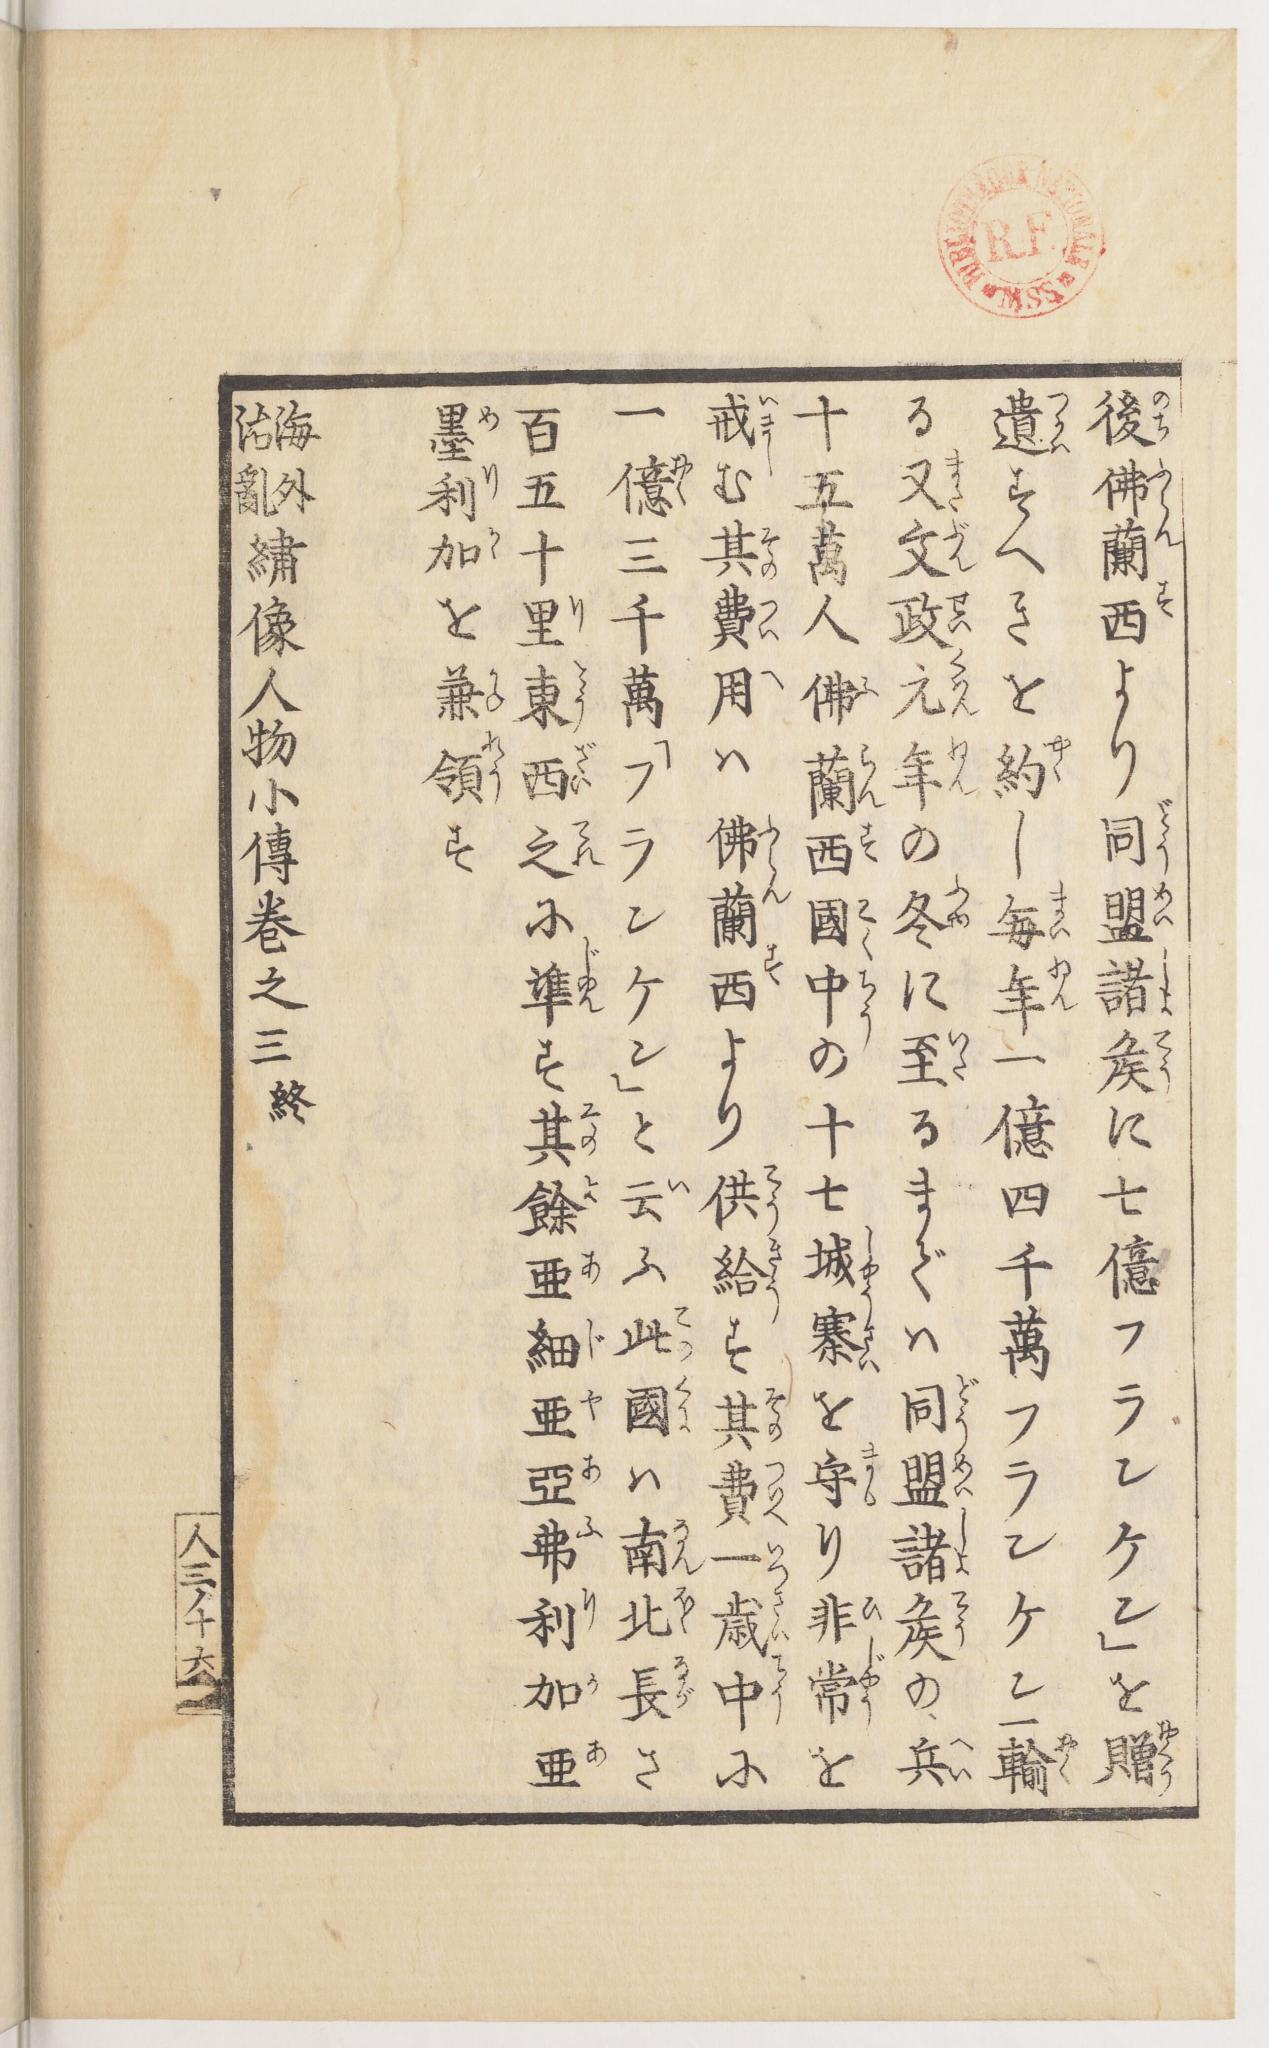MainZone-Character: (509, 939, 604, 1030), (1093, 1717, 1190, 1798), (806, 1640, 888, 1731), (1092, 794, 1180, 878), (991, 954, 1083, 1030), (711, 936, 790, 1024), (897, 869, 979, 952), (886, 650, 978, 721), (521, 815, 603, 894), (891, 1511, 979, 1584), (801, 740, 881, 819), (705, 587, 792, 660), (891, 1374, 987, 1439), (704, 1156, 786, 1232), (607, 451, 700, 518), (1096, 949, 1183, 1021), (1093, 578, 1181, 648), (714, 1653, 792, 1732), (893, 734, 972, 812), (804, 965, 883, 1043), (711, 1236, 787, 1317), (903, 1590, 978, 1672), (701, 802, 783, 876), (809, 1224, 891, 1299), (615, 1372, 700, 1444), (705, 1460, 792, 1530), (619, 1650, 692, 1732), (515, 1239, 610, 1302), (988, 388, 1074, 456), (520, 1311, 606, 1379), (705, 878, 798, 942), (430, 729, 508, 805), (804, 888, 884, 961), (520, 1097, 600, 1169), (1089, 515, 1183, 576), (994, 1729, 1079, 1796), (615, 1511, 701, 1577), (511, 1173, 603, 1235), (992, 882, 1074, 951), (512, 1450, 606, 1510), (517, 1381, 606, 1444), (515, 1513, 604, 1575), (517, 1578, 600, 1646), (806, 1305, 887, 1374), (417, 519, 509, 579), (1096, 1028, 1184, 1091), (520, 733, 599, 802), (811, 1437, 883, 1511), (420, 462, 506, 524), (612, 1299, 694, 1363), (891, 518, 979, 578), (616, 1580, 704, 1640), (713, 1590, 796, 1653), (1088, 455, 1177, 513), (894, 1028, 972, 1096), (1093, 388, 1178, 449), (708, 394, 787, 459), (714, 1384, 789, 1453), (419, 398, 508, 455), (890, 584, 973, 644), (802, 821, 881, 882), (1095, 881, 1175, 941), (891, 452, 972, 512), (427, 661, 505, 723), (616, 1167, 689, 1230), (711, 1535, 798, 1587), (804, 666, 875, 729), (992, 733, 1067, 791), (523, 1669, 610, 1719), (711, 663, 786, 721), (705, 524, 782, 581), (906, 1725, 975, 1788), (900, 1445, 975, 1502), (525, 1736, 610, 1786), (805, 1587, 884, 1638)
MainZone-Ruby: (856, 1638, 891, 1731), (575, 939, 612, 1015), (849, 1435, 883, 1514), (669, 1510, 707, 1578), (853, 737, 886, 815), (758, 389, 790, 467), (477, 726, 509, 802), (666, 1652, 704, 1716), (1159, 1717, 1187, 1799), (951, 1375, 987, 1439), (853, 1221, 883, 1296), (763, 1654, 793, 1725), (948, 652, 978, 724), (569, 816, 604, 875), (760, 1458, 792, 1521), (1042, 951, 1076, 1011), (943, 518, 978, 573), (944, 1729, 979, 1785), (946, 1583, 976, 1646), (951, 1510, 978, 1580), (569, 737, 599, 800), (1155, 948, 1180, 1020), (1045, 391, 1073, 453), (946, 736, 973, 799), (946, 1028, 978, 1083), (944, 448, 970, 513), (673, 446, 700, 512), (853, 892, 880, 958), (672, 1302, 697, 1371), (1153, 793, 1175, 870), (765, 1586, 792, 1650), (669, 1578, 701, 1631), (944, 872, 972, 932), (1055, 1729, 1083, 1789), (669, 1374, 695, 1437), (1045, 885, 1074, 941), (859, 1305, 884, 1369), (858, 968, 880, 1040), (764, 1381, 789, 1444), (575, 1580, 607, 1628), (950, 1445, 976, 1504), (765, 1238, 785, 1318), (1148, 455, 1174, 512), (758, 876, 799, 913), (577, 1243, 613, 1284), (757, 519, 782, 579), (946, 588, 976, 636), (764, 1162, 789, 1217), (856, 824, 886, 870), (476, 455, 508, 496), (583, 1311, 607, 1363), (577, 1379, 603, 1429), (855, 663, 884, 707), (578, 1167, 604, 1216), (765, 1536, 792, 1583), (760, 946, 787, 990), (580, 1099, 602, 1154), (761, 815, 782, 873), (760, 666, 792, 702), (1045, 731, 1067, 784), (1156, 1028, 1177, 1084), (757, 595, 782, 639), (482, 664, 504, 714), (1149, 882, 1175, 923), (1152, 392, 1174, 440), (575, 1448, 607, 1480), (859, 1589, 884, 1627), (1153, 518, 1186, 547), (477, 398, 505, 432), (1155, 576, 1175, 622), (663, 1169, 692, 1200), (575, 1513, 606, 1542), (585, 1739, 610, 1773), (483, 525, 501, 559), (587, 1669, 602, 1703)
